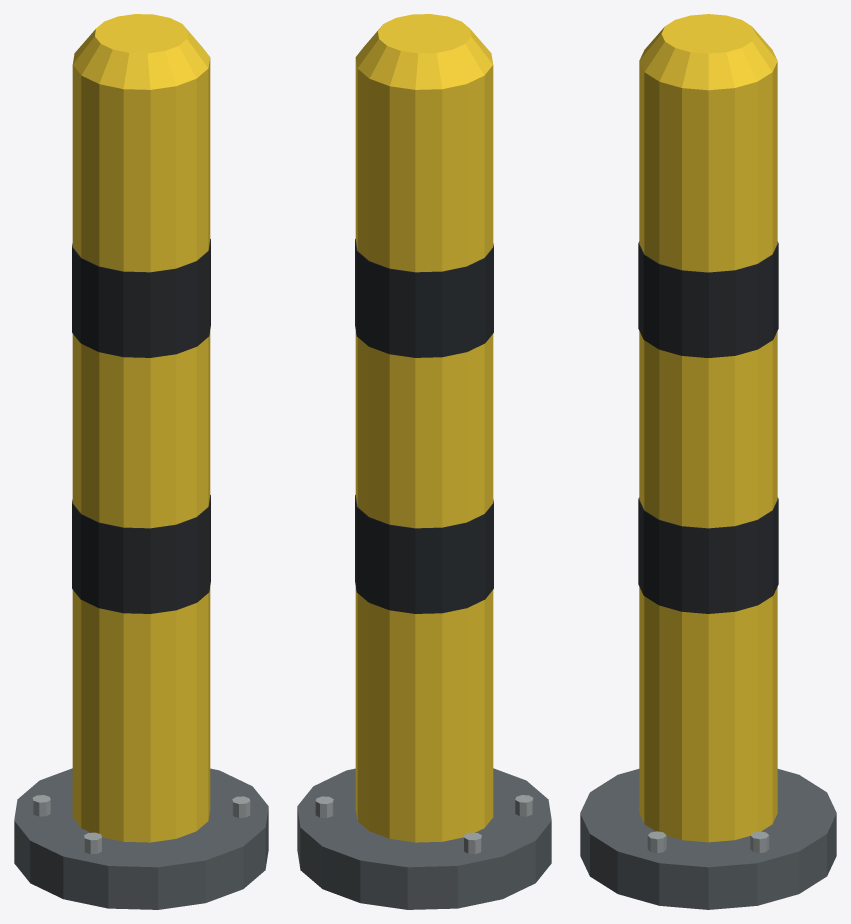
The model's file is safety_bollard.glb.
The picture shows the model from 3 angles, left to right: view 1: azimuth 30°, elevation 25°; view 2: azimuth 150°, elevation 25°; view 3: azimuth 270°, elevation 25°; orthographic projection.
Parts seen in each view (by area): view 1: safety_bollard; view 2: safety_bollard; view 3: safety_bollard.
Boxes of the visible parts, left/top/right/bottom form: safety_bollard: left=14, top=14, right=268, bottom=909; safety_bollard: left=297, top=14, right=551, bottom=909; safety_bollard: left=580, top=14, right=836, bottom=909.
Bounding box in the file's own units: 0.3 × 1.06 × 0.3.
